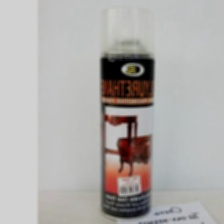aerosol_cans: (94, 2, 159, 224)
